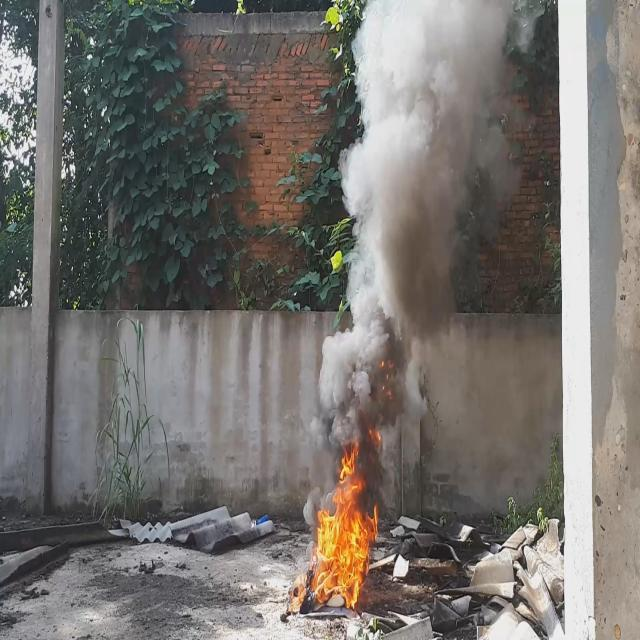Fire: (310, 442, 379, 610)
Smoke: (320, 0, 514, 471)
